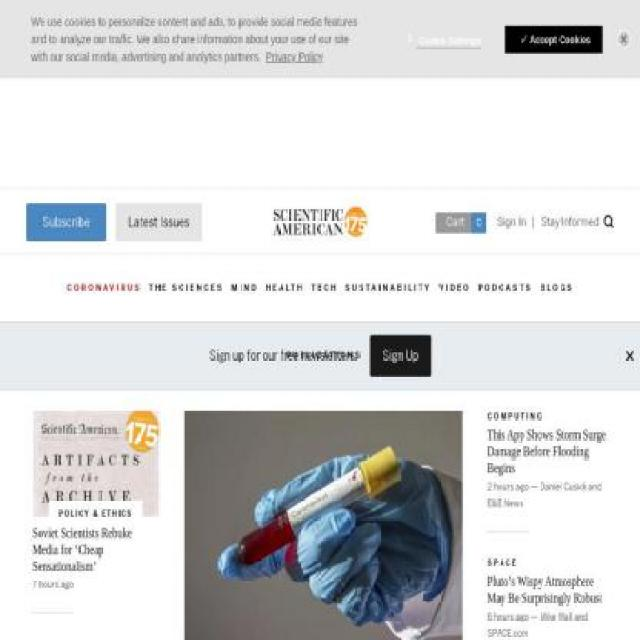button: (272, 188, 368, 255), (524, 32, 640, 79), (106, 202, 202, 241), (116, 202, 202, 241), (26, 202, 106, 241), (369, 335, 431, 377), (369, 346, 431, 365), (535, 213, 599, 230), (416, 34, 481, 49), (516, 33, 592, 45), (446, 212, 488, 233), (497, 213, 526, 229), (603, 216, 614, 230)
